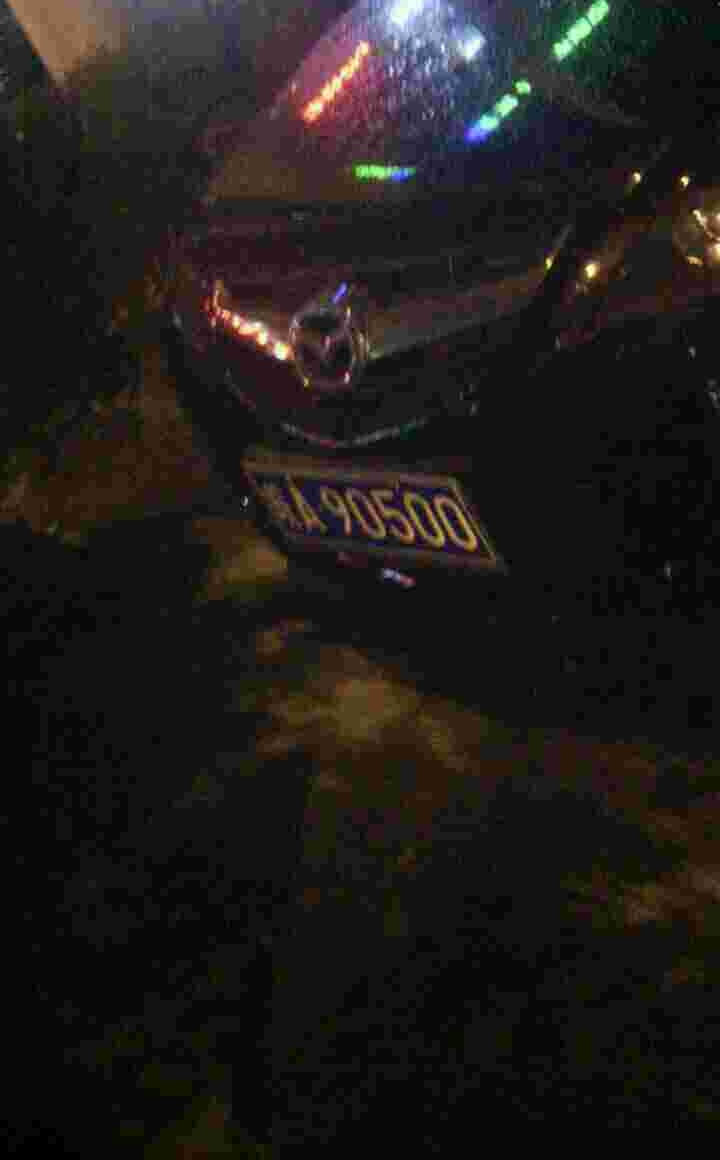license_plate: (244, 482, 494, 545)
